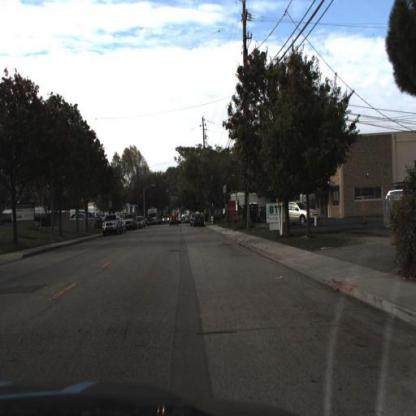car: (285, 195, 324, 229), (102, 213, 123, 240), (68, 210, 92, 226), (192, 212, 207, 231), (171, 213, 184, 231)
